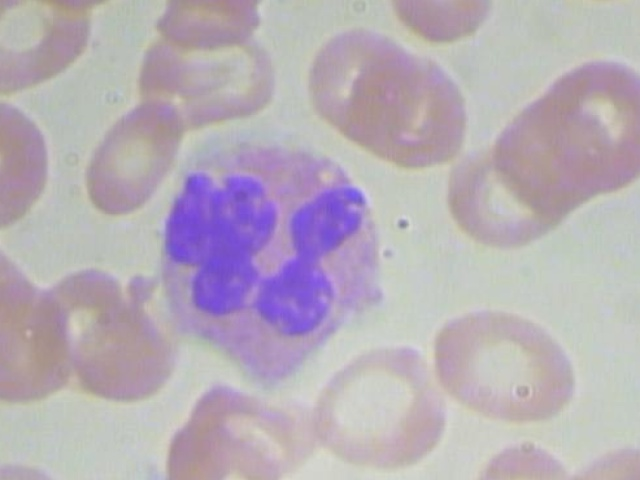RBC: (422, 293, 589, 435), (300, 328, 442, 480), (298, 20, 417, 138), (536, 52, 640, 184), (180, 377, 313, 480), (362, 50, 483, 161), (79, 96, 185, 217), (140, 417, 285, 480), (546, 435, 640, 480), (0, 450, 95, 480)
WBC: (139, 127, 404, 405)
